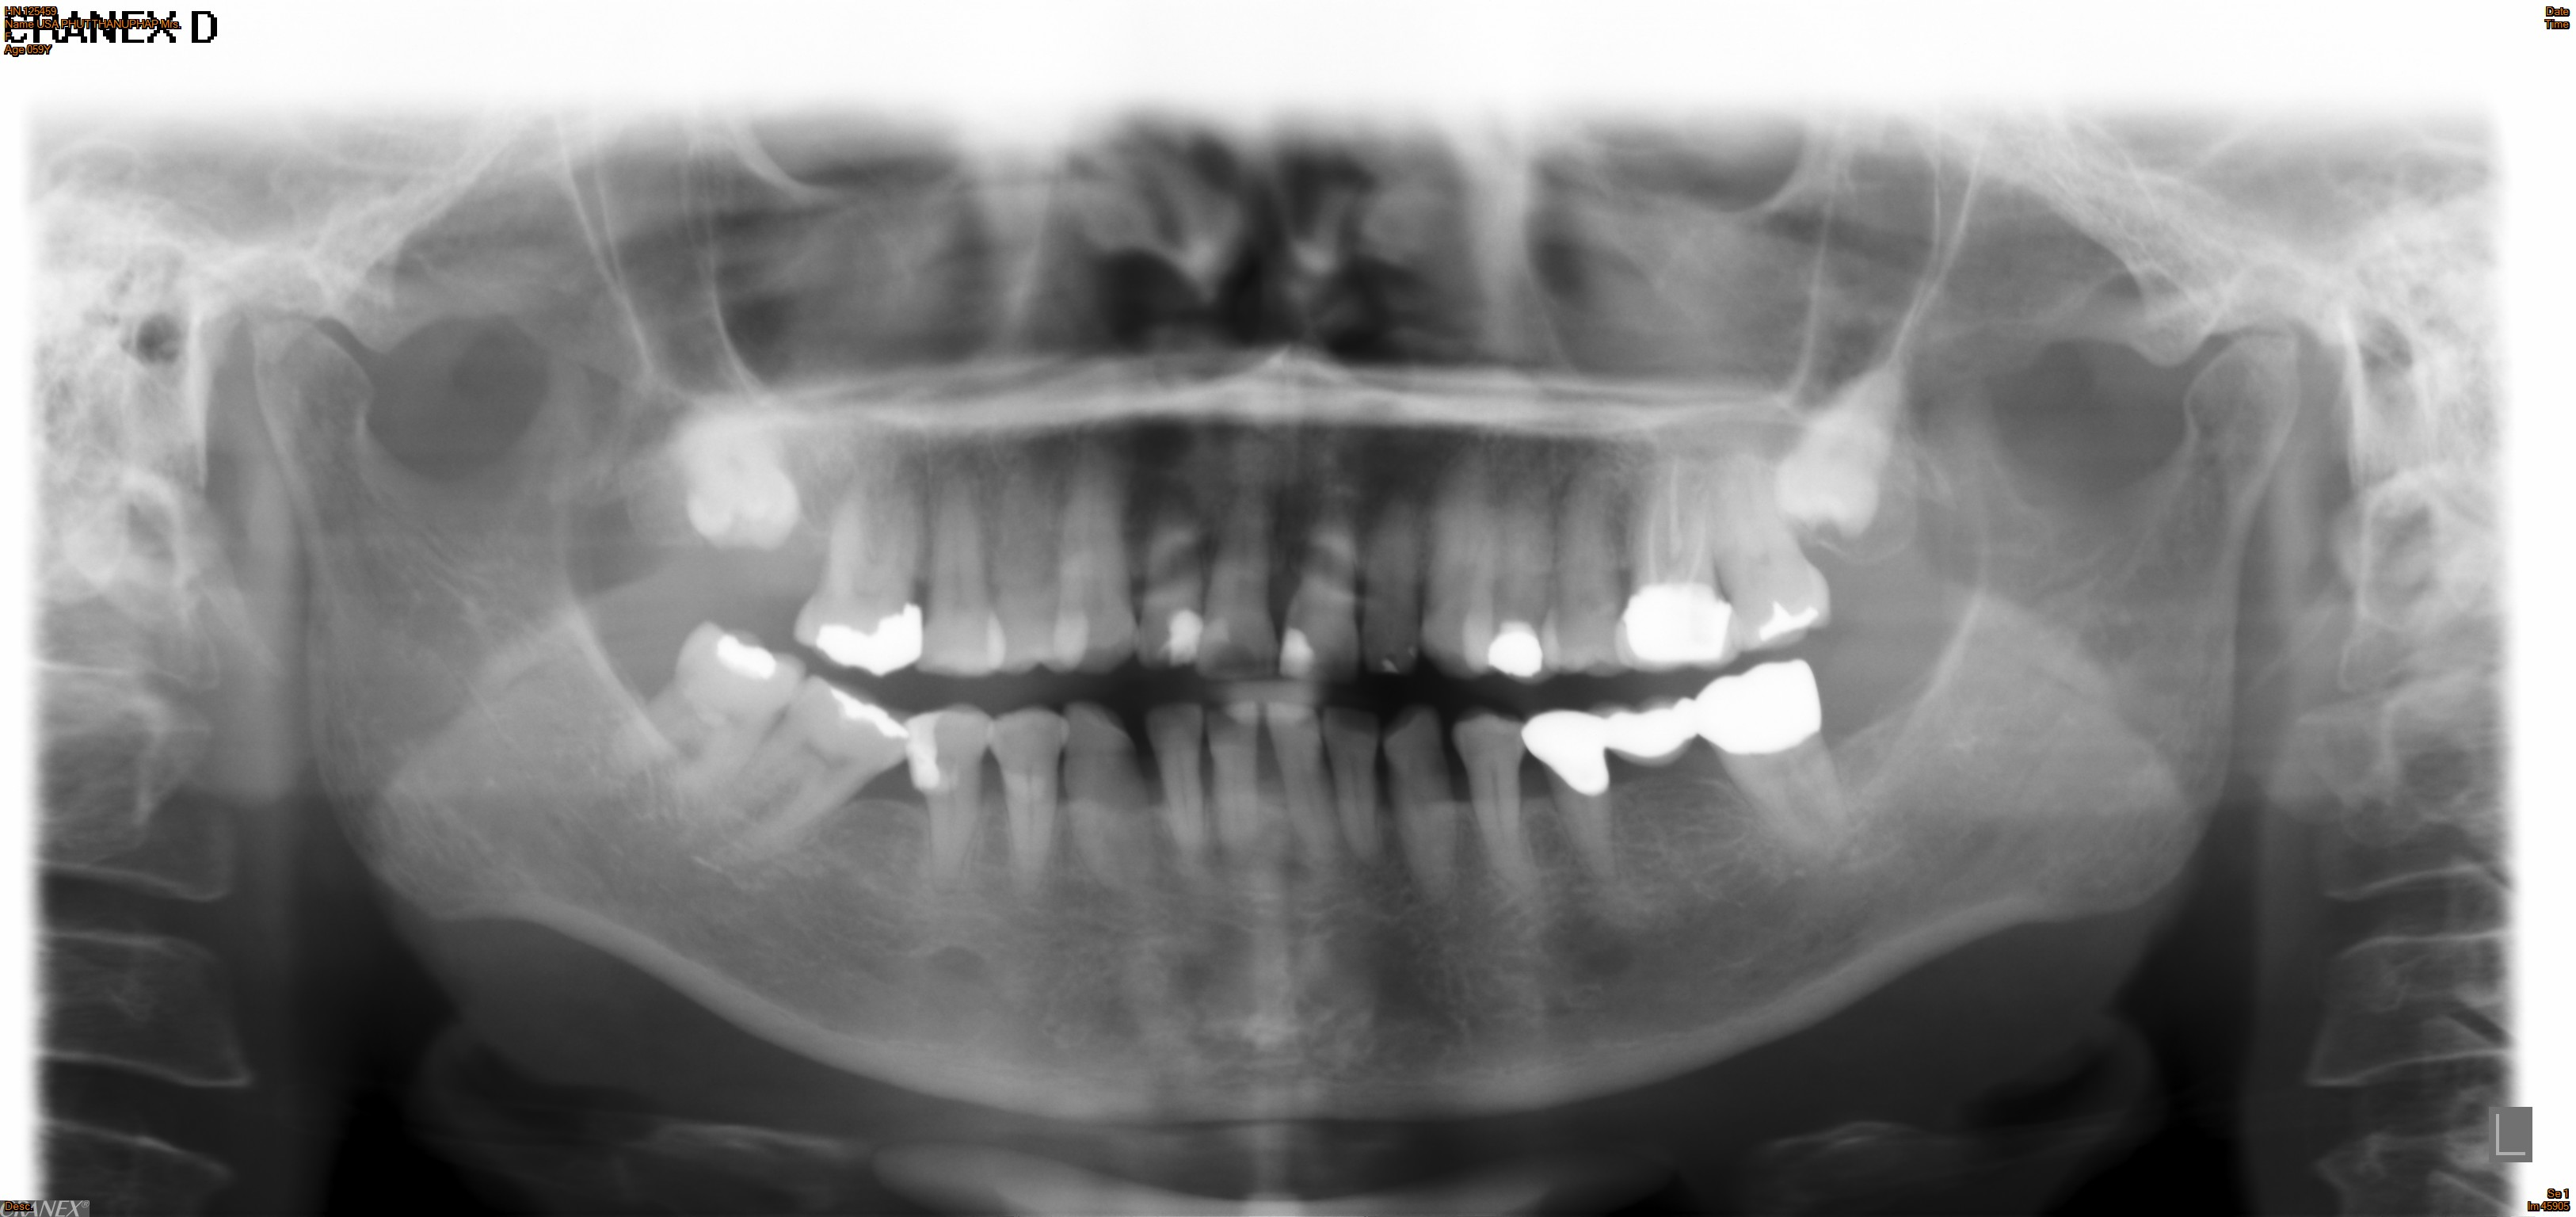periodontitis: (665, 667, 923, 893), (1686, 652, 1865, 884), (785, 450, 936, 678)
